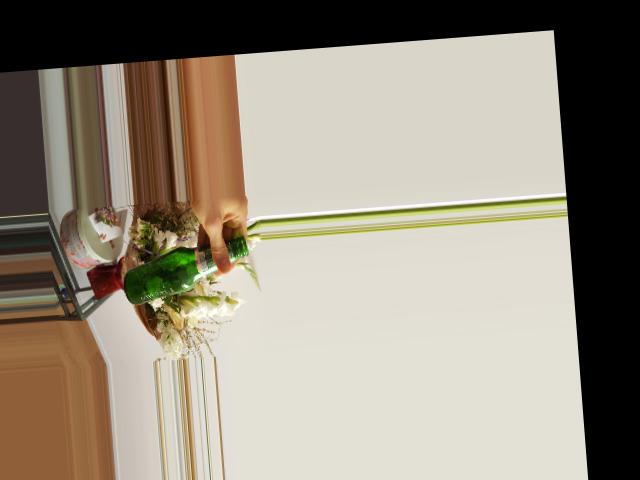beer: (120, 241, 251, 305)
